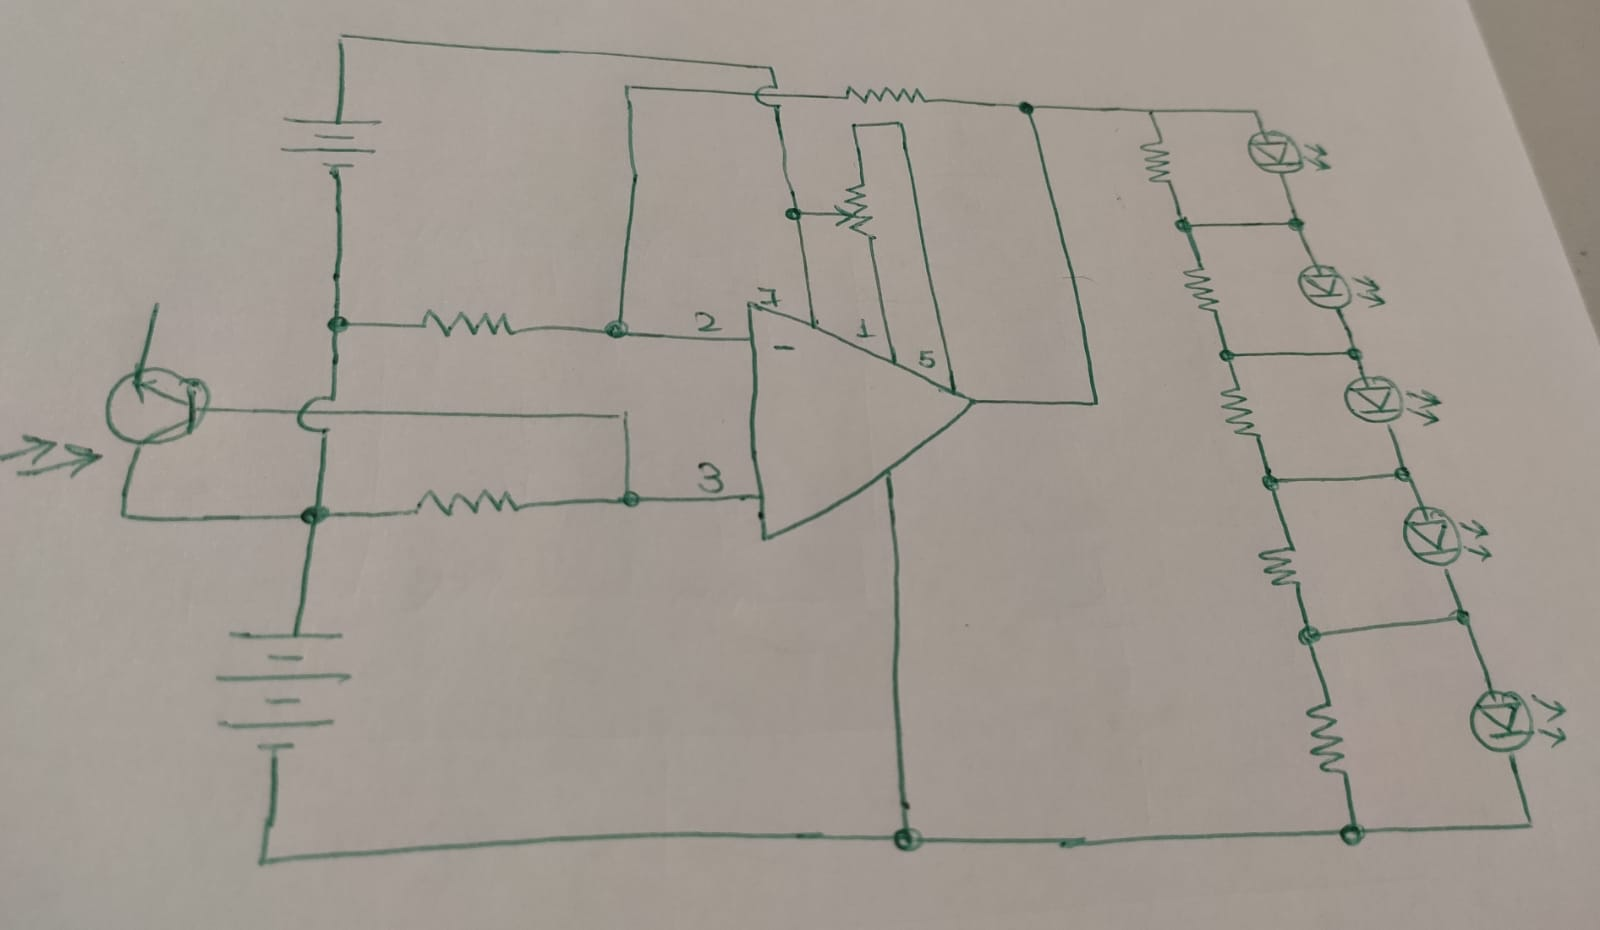crossover: (295, 392, 342, 436), (754, 81, 787, 108)
diode.light_emitting: (1463, 686, 1573, 758), (1401, 504, 1494, 571), (1340, 374, 1442, 430), (1293, 262, 1385, 311), (1246, 127, 1331, 178)
junction: (887, 821, 929, 856), (598, 312, 636, 343), (295, 500, 335, 528), (248, 843, 278, 876), (1336, 819, 1370, 848), (1254, 467, 1287, 495), (1293, 623, 1327, 649), (110, 502, 138, 530), (780, 203, 810, 229), (617, 484, 645, 512), (323, 313, 354, 338), (1342, 340, 1369, 366), (611, 401, 636, 428), (1011, 97, 1043, 118), (1515, 812, 1542, 836), (1450, 604, 1477, 626), (1284, 214, 1309, 234), (1392, 463, 1414, 484), (1217, 345, 1240, 365), (1173, 214, 1197, 232), (332, 28, 352, 49), (1085, 392, 1104, 412), (1140, 103, 1160, 121), (620, 80, 637, 97), (845, 118, 863, 136), (1248, 104, 1264, 121), (763, 60, 778, 76), (894, 116, 910, 131)
operational_amplifier: (742, 296, 984, 546)
resistor: (1303, 697, 1352, 776), (418, 306, 515, 342), (412, 486, 520, 515), (1218, 383, 1261, 438), (1180, 263, 1225, 316), (1256, 542, 1303, 590), (843, 83, 928, 108), (1140, 136, 1177, 187)
resistor.adjustable: (829, 170, 879, 246)
terminal: (144, 294, 167, 319)
text: (696, 458, 726, 494), (692, 308, 724, 333), (756, 285, 785, 310), (855, 316, 877, 340), (917, 348, 937, 371), (771, 341, 798, 352)
transistor.photo: (6, 362, 215, 482)
voltage.dc: (212, 628, 350, 755), (276, 113, 384, 176)
